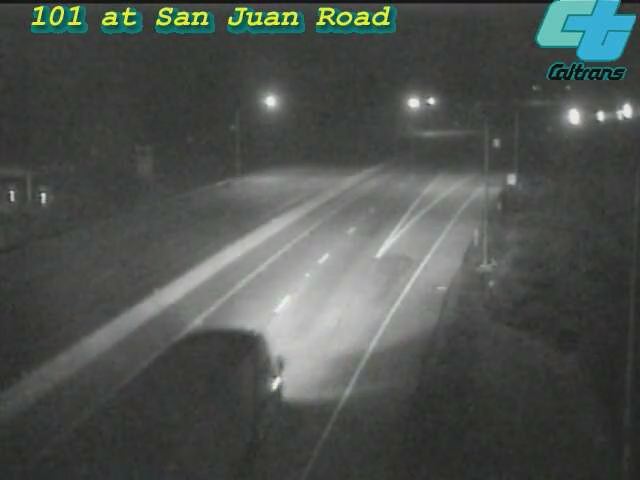vehicle: (125, 363, 235, 473), (575, 92, 625, 142), (549, 91, 599, 141), (594, 90, 640, 140), (603, 86, 640, 136)
